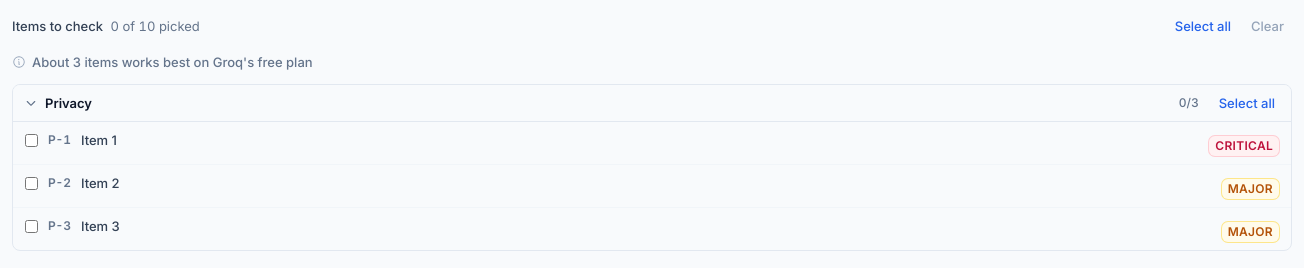
Test: AppItemPicker › Select all picks every item, and Clear empties the pick
Expected: the button "Clear" is disabled, top-left (1243, 12), bottom-right (1292, 40)
Click the button "Select all" in the row of "picked" at (1203, 26), box top-left (1167, 12), bottom-right (1239, 40)
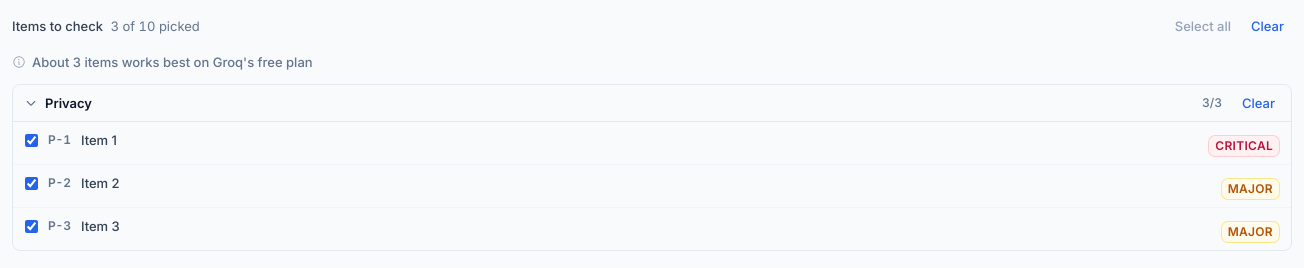
Expected: the button "Select all" is disabled, top-left (1167, 12), bottom-right (1239, 40)
Click the button "Clear" in the row of "picked" at (1268, 26), box top-left (1243, 12), bottom-right (1292, 40)
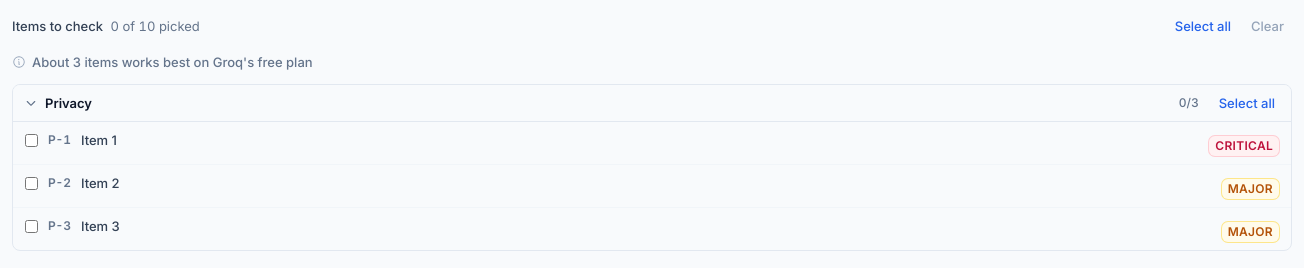
Expected: the text "0 of 10 picked" is shown, top-left (110, 18), bottom-right (200, 34)
